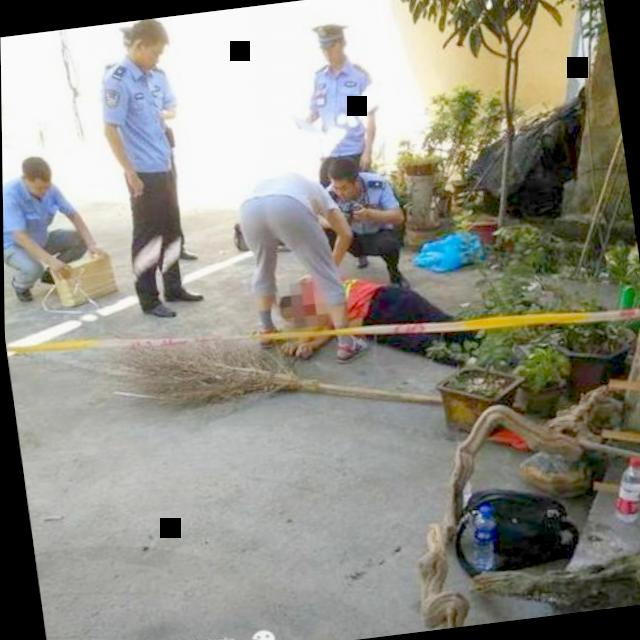Fall-Detected: (277, 239, 508, 392)
